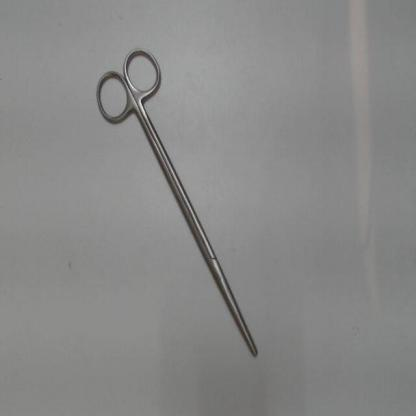9 Metzenbaum Scissors: (90, 40, 262, 361)
